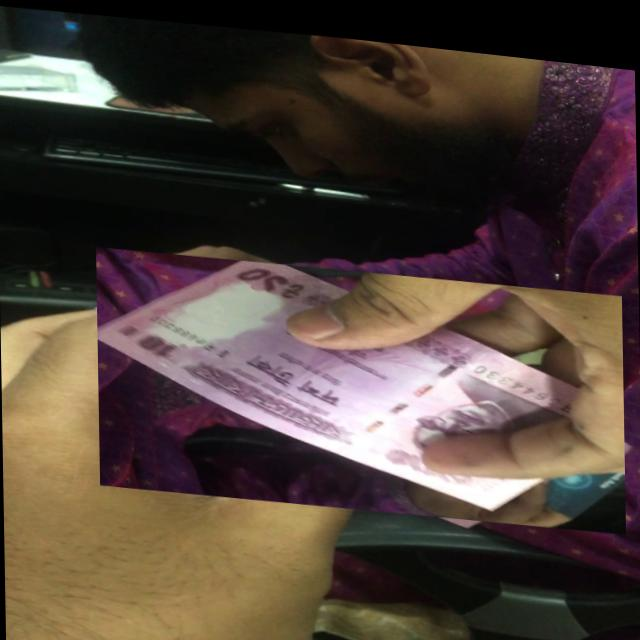Taka: (96, 235, 626, 529)
